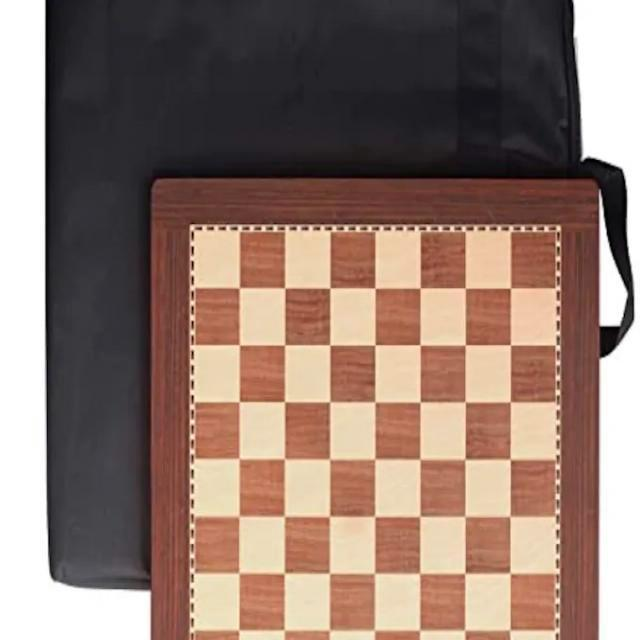chess-table-corners: (180, 223, 220, 264), (545, 211, 575, 257)
